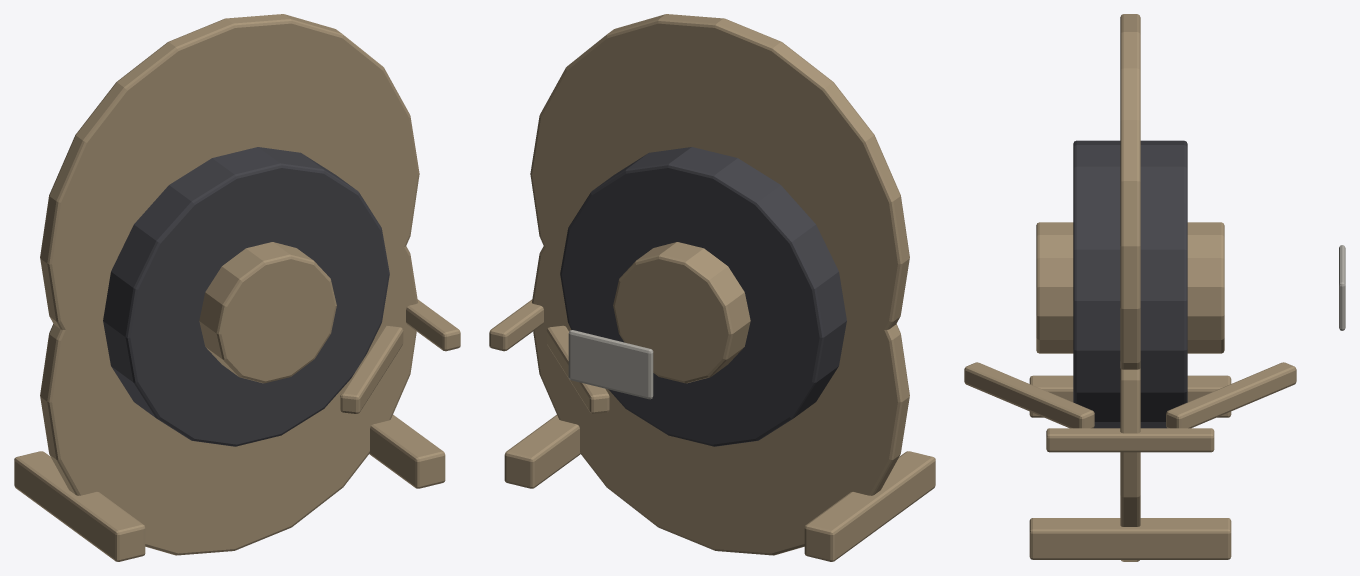
File: cable_spool.fbx
The picture shows the model from 3 angles, left to right: view 1: azimuth 30°, elevation 25°; view 2: azimuth 150°, elevation 25°; view 3: azimuth 270°, elevation 25°; orthographic projection. The views are drawn at different scales.
Visible parts, largest first — view 1: cable_spool; view 2: cable_spool; view 3: cable_spool.
Part boxes in pixels (<box>): cable_spool: <box>14,14,460,561</box>; cable_spool: <box>489,14,935,561</box>; cable_spool: <box>964,14,1345,561</box>.
Bounding box in the file's own units: 1.25 × 1.68 × 1.13.
